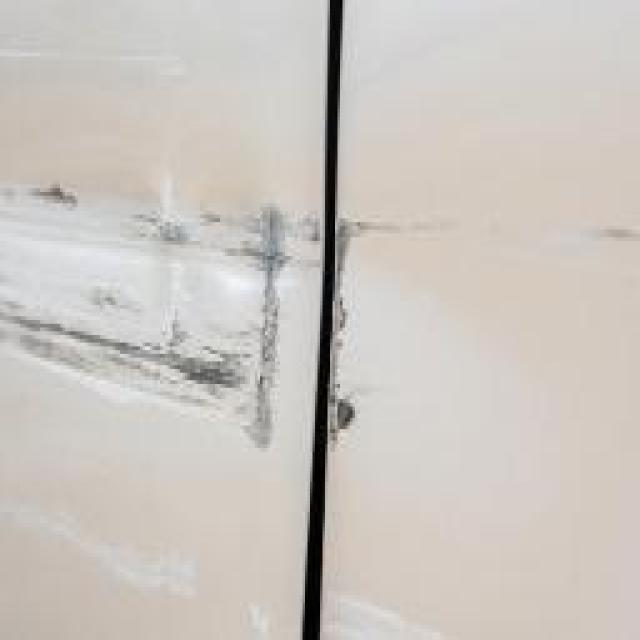Door: (2, 158, 318, 486), (312, 226, 442, 474)
